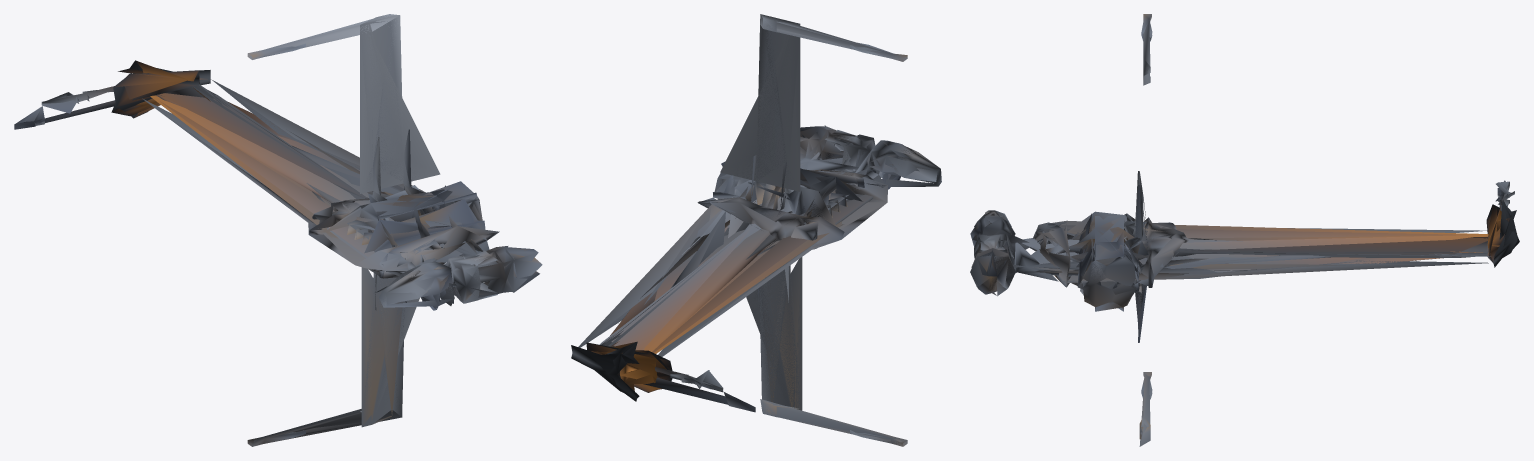
File: bwing.glb
3 views of the same model, side by side, from view 1: azimuth 30°, elevation 25°; view 2: azimuth 150°, elevation 25°; view 3: azimuth 270°, elevation 25° (orthographic). The views are drawn at different scales.
Parts seen in each view (by area): view 1: bwing; view 2: bwing; view 3: bwing.
Boxes of the visible parts, left/top/right/bottom form: bwing: left=14, top=14, right=542, bottom=446; bwing: left=571, top=14, right=941, bottom=446; bwing: left=970, top=14, right=1519, bottom=446.
Bounding box in the file's own units: 0.4838 × 0.7441 × 0.9995.
